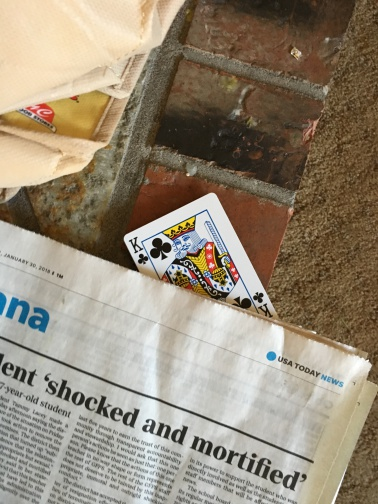king: (124, 192, 282, 322)
